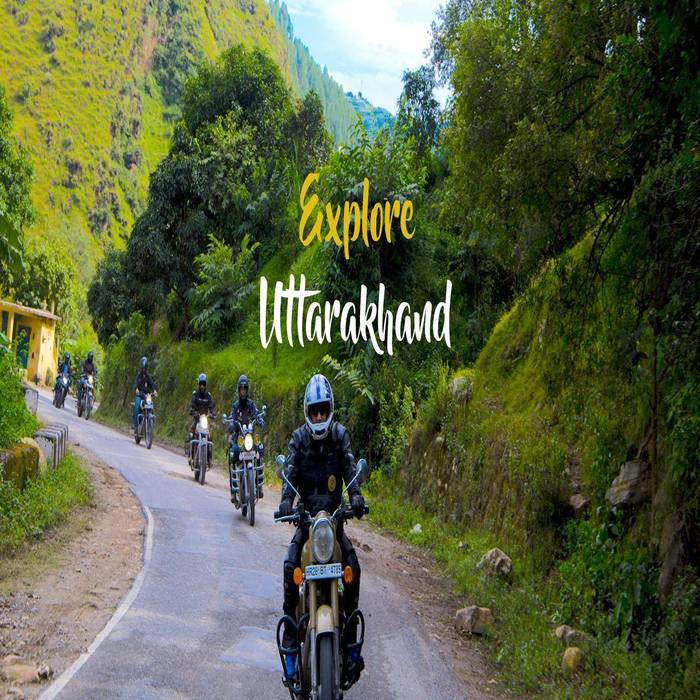h: (301, 371, 337, 442), (235, 372, 249, 404), (136, 353, 152, 377)
n: (303, 559, 346, 584), (236, 447, 258, 463)
